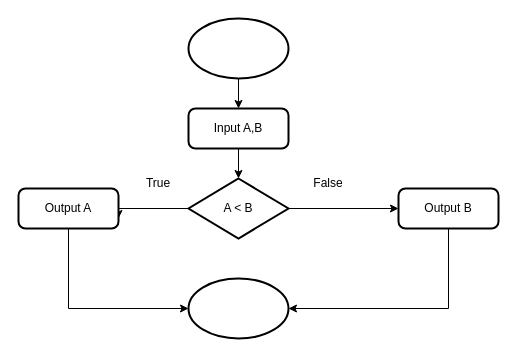
Image size: 516x356. Some labels were removed from this diagram. The shapes that lost their labels are listed below. From the top down, each one's centre as x and y in pixels, then its label:
At point (238, 48): "Start".
At point (238, 308): "End".
